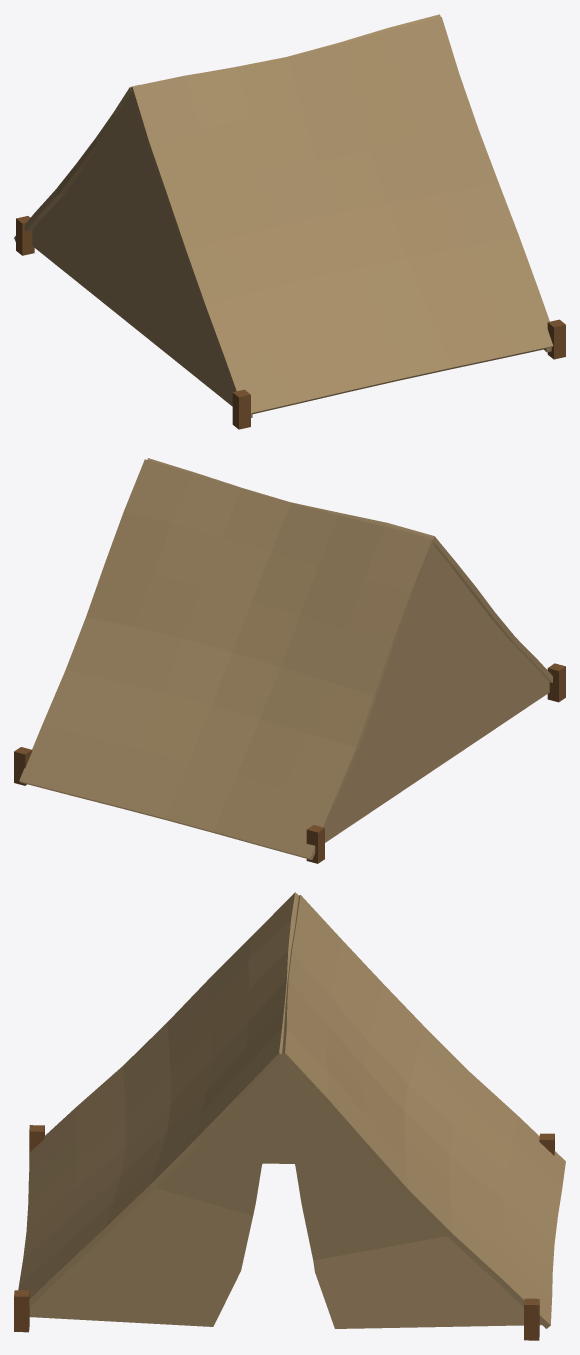
The model's file is tent_1.glb.
The picture shows the model from 3 angles, top to bottom: view 1: azimuth 30°, elevation 25°; view 2: azimuth 150°, elevation 25°; view 3: azimuth 270°, elevation 25°; orthographic projection. The views are drawn at different scales.
Visible parts, largest first — view 1: Cube.001; view 2: Cube.001; view 3: Cube.001.
Part boxes in pixels (x1=…): Cube.001: x1=14, y1=14, x2=565, y2=429; Cube.001: x1=14, y1=458, x2=565, y2=863; Cube.001: x1=14, y1=892, x2=565, y2=1340.
Size of the model in its own units: 0.7124 by 0.5125 by 0.9228.
